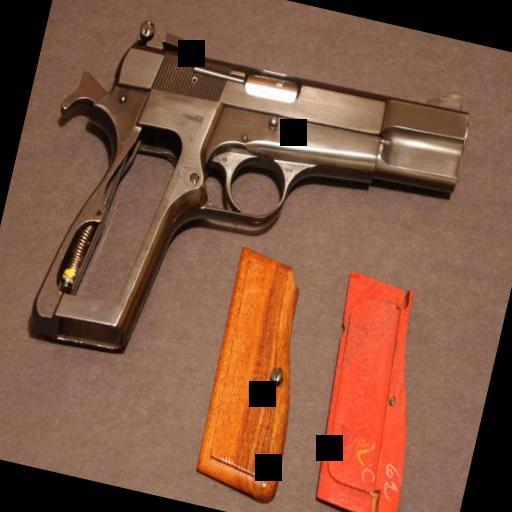Handgun: (0, 0, 482, 427)
